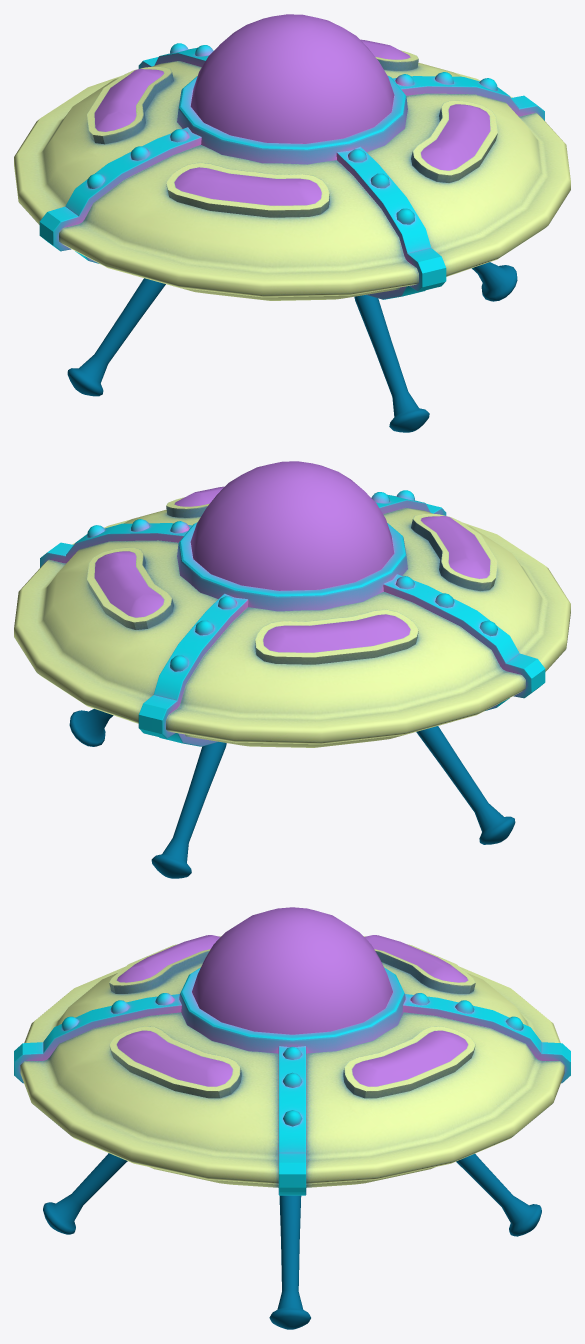
File: ufo.fbx
3 views of the same model, one above another, from view 1: azimuth 30°, elevation 25°; view 2: azimuth 150°, elevation 25°; view 3: azimuth 270°, elevation 25° (orthographic). The views are drawn at different scales.
Visible parts, largest first — view 1: Base_GEO, Glass_GEO, Detail_GEO, Legs_GEO; view 2: Base_GEO, Glass_GEO, Detail_GEO, Legs_GEO; view 3: Base_GEO, Glass_GEO, Detail_GEO, Legs_GEO.
Boxes of the visible parts, x1,y1,x2,y2 form: Base_GEO: [14, 50, 570, 300]; Glass_GEO: [94, 14, 490, 205]; Detail_GEO: [39, 43, 544, 299]; Legs_GEO: [67, 262, 517, 432]; Base_GEO: [14, 497, 570, 747]; Glass_GEO: [94, 461, 490, 652]; Detail_GEO: [40, 490, 545, 746]; Legs_GEO: [69, 709, 515, 878]; Base_GEO: [20, 936, 564, 1187]; Glass_GEO: [117, 907, 467, 1086]; Detail_GEO: [14, 967, 570, 1195]; Legs_GEO: [43, 1153, 541, 1329].
Size of the model in its own units: 35.11 by 22.01 by 35.11.
4 materials, 2 textured.
